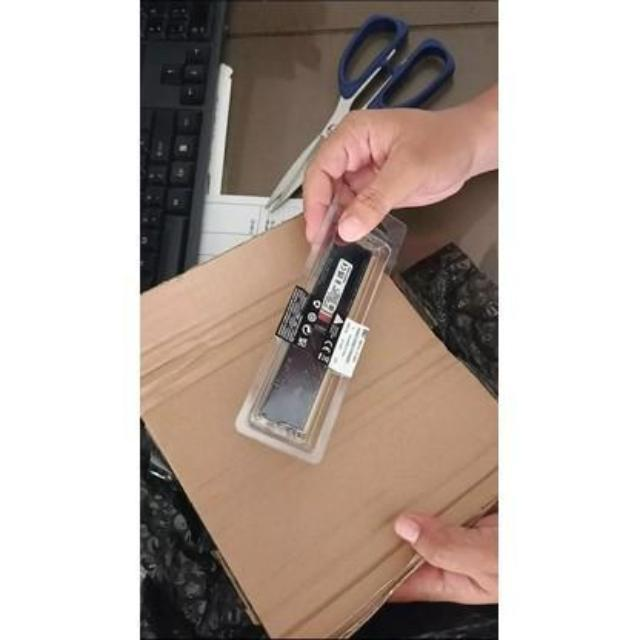RAM: (255, 228, 377, 443)
